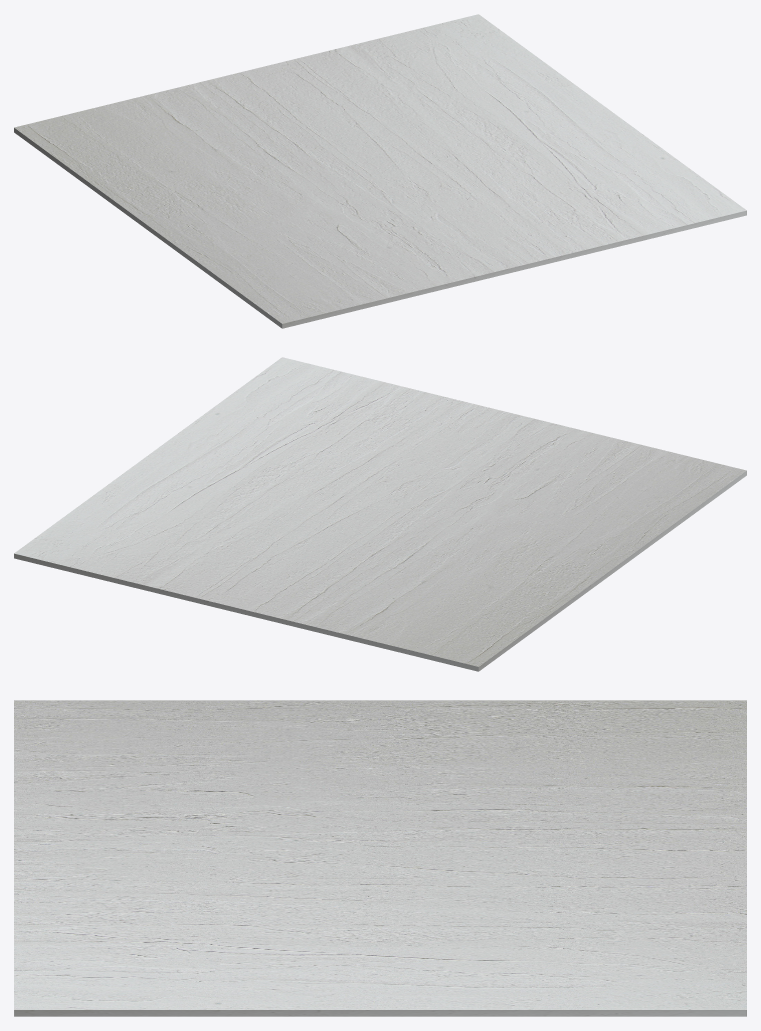
The model's file is Ceiling.FBX.
The picture shows the model from 3 angles, top to bottom: view 1: azimuth 30°, elevation 25°; view 2: azimuth 150°, elevation 25°; view 3: azimuth 270°, elevation 25°; orthographic projection. The views are drawn at different scales.
Parts seen in each view (by area): view 1: Box002; view 2: Box002; view 3: Box002.
Boxes of the visible parts, bbox=[...] form: Box002: bbox=[14, 14, 746, 328]; Box002: bbox=[14, 357, 746, 671]; Box002: bbox=[14, 700, 746, 1016].
Size of the model in its own units: 100 by 1 by 100.
1 material, 1 textured.
